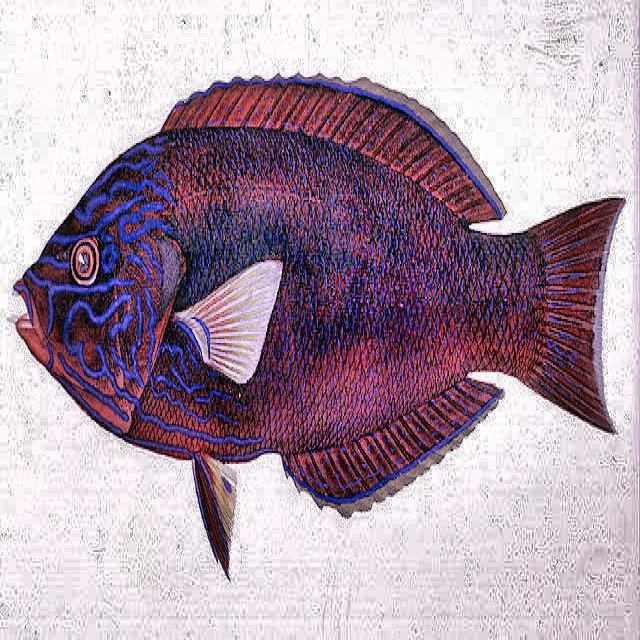fish: (7, 71, 628, 585)
